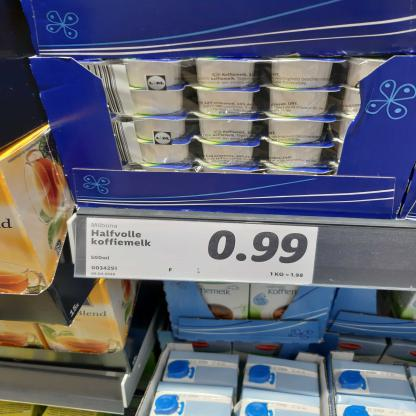prtg: (87, 219, 320, 287)
